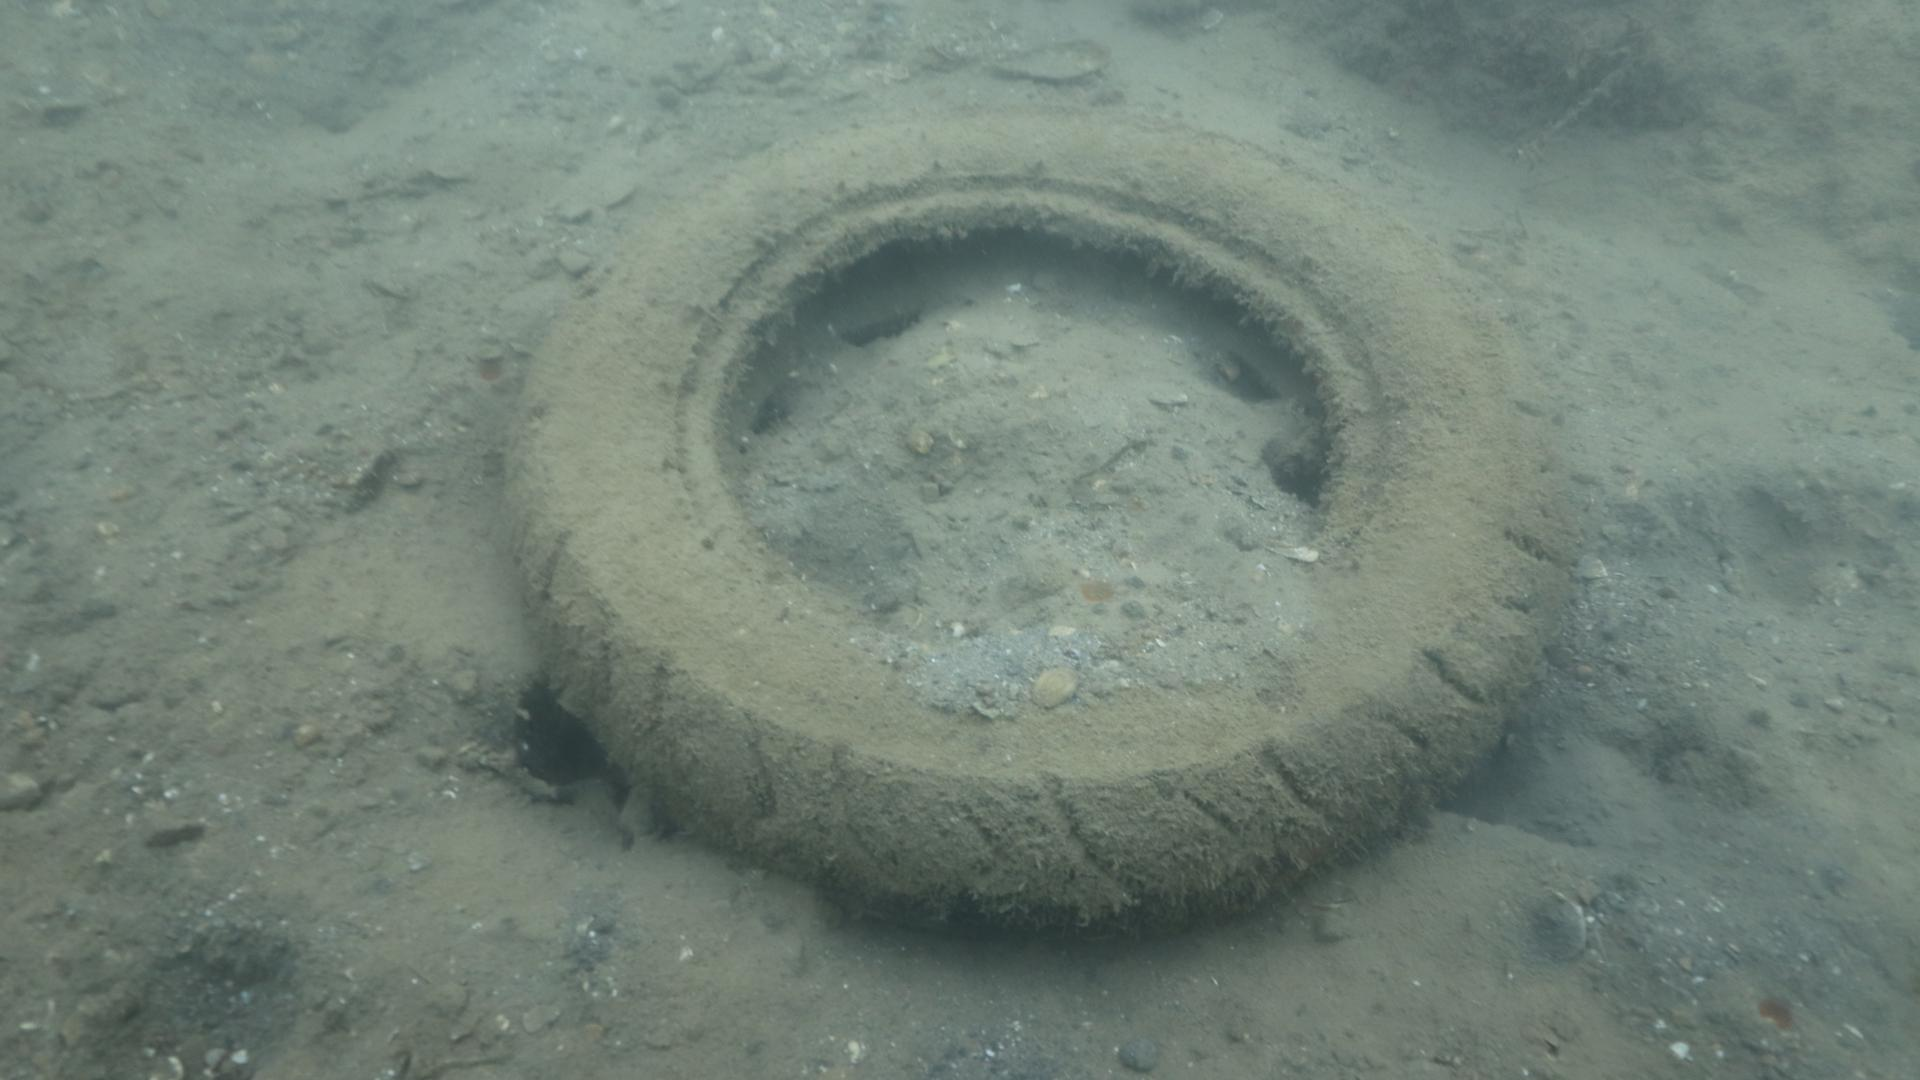tire: (500, 102, 1580, 943)
